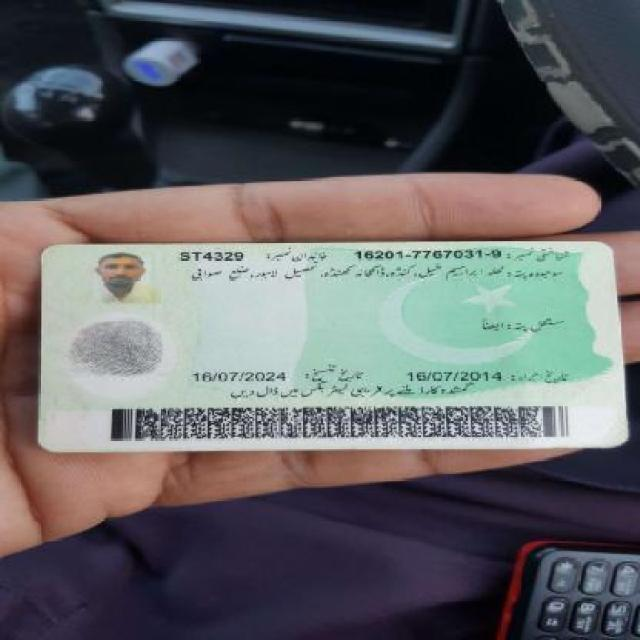Back: (29, 238, 629, 460)
